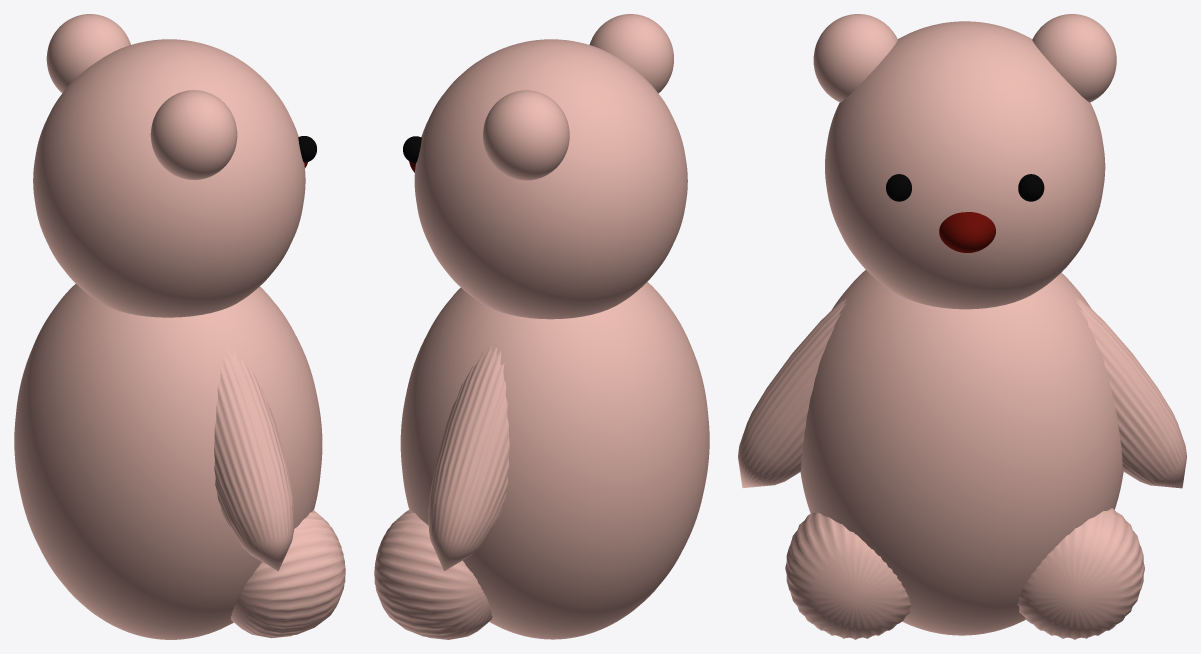
File: Bear1.fbx
3 renders of one model, left to right at view 1: azimuth 30°, elevation 25°; view 2: azimuth 150°, elevation 25°; view 3: azimuth 270°, elevation 25°, orthographic. The views are drawn at different scales.
Visible parts, largest first — view 1: Cylinder.002; view 2: Cylinder.002; view 3: Cylinder.002.
Boxes of the visible parts, x1=… form: Cylinder.002: x1=14, y1=14, x2=345, y2=639; Cylinder.002: x1=374, y1=14, x2=709, y2=639; Cylinder.002: x1=738, y1=14, x2=1186, y2=639.
Bounding box in the file's own units: 17.84 × 36.2 × 24.79.
